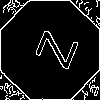Z: (25, 25, 79, 71)
